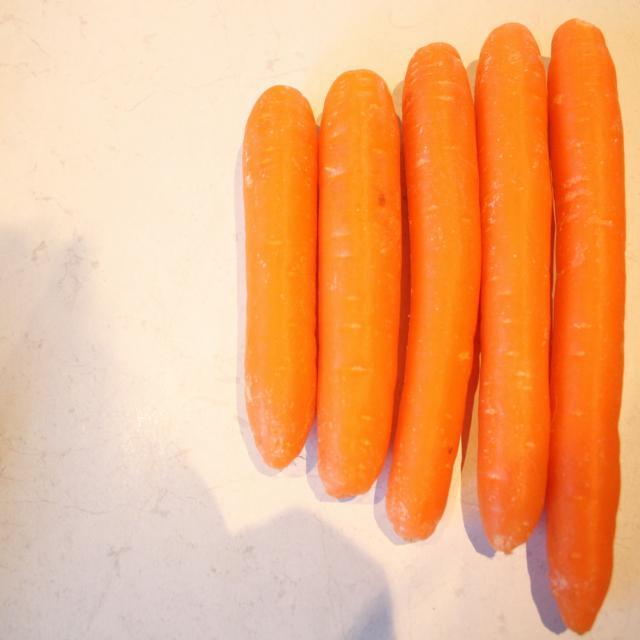Carrot: (545, 14, 629, 635), (394, 36, 482, 547), (473, 21, 552, 550), (314, 73, 396, 492), (234, 83, 316, 468)
